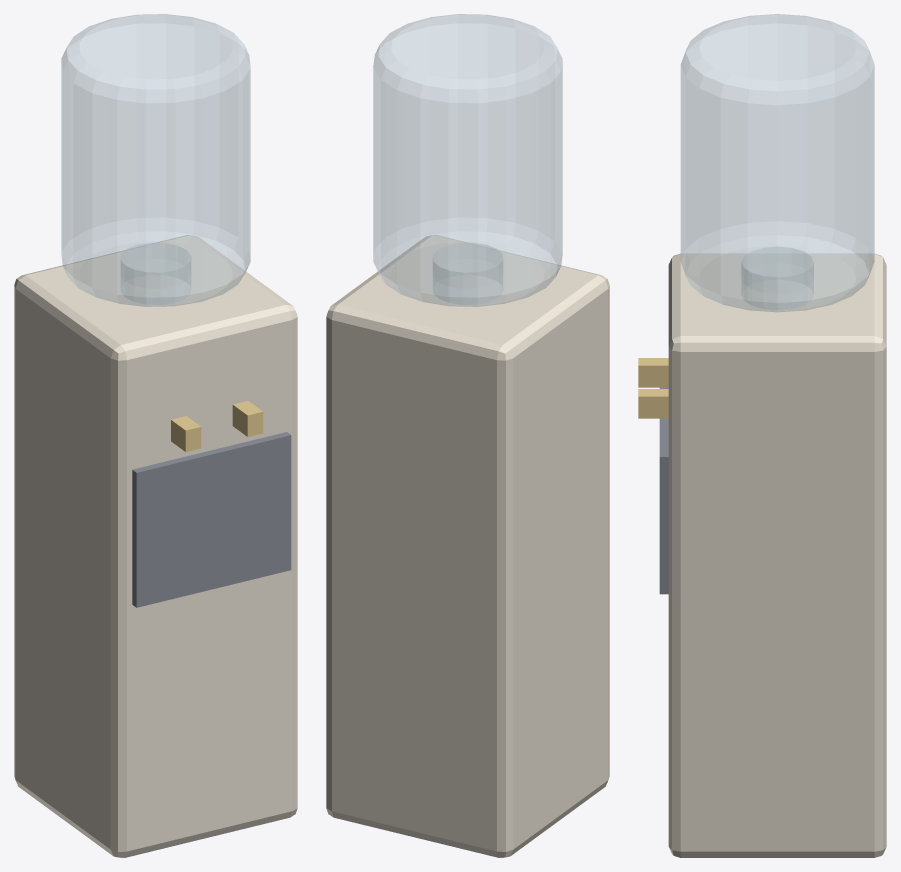
Rendered from prop_water_cooler.glb.
3 views of the same model, side by side, from view 1: azimuth 30°, elevation 25°; view 2: azimuth 150°, elevation 25°; view 3: azimuth 270°, elevation 25° (orthographic).
Parts seen in each view (by area): view 1: Cooler; view 2: Cooler; view 3: Cooler.
Part boxes in pixels (box(x1,y1,x2,y2)): Cooler: box(14, 14, 297, 857); Cooler: box(326, 14, 609, 857); Cooler: box(638, 14, 886, 857).
Size of the model in its own units: 0.36 by 1.4 by 0.41.
